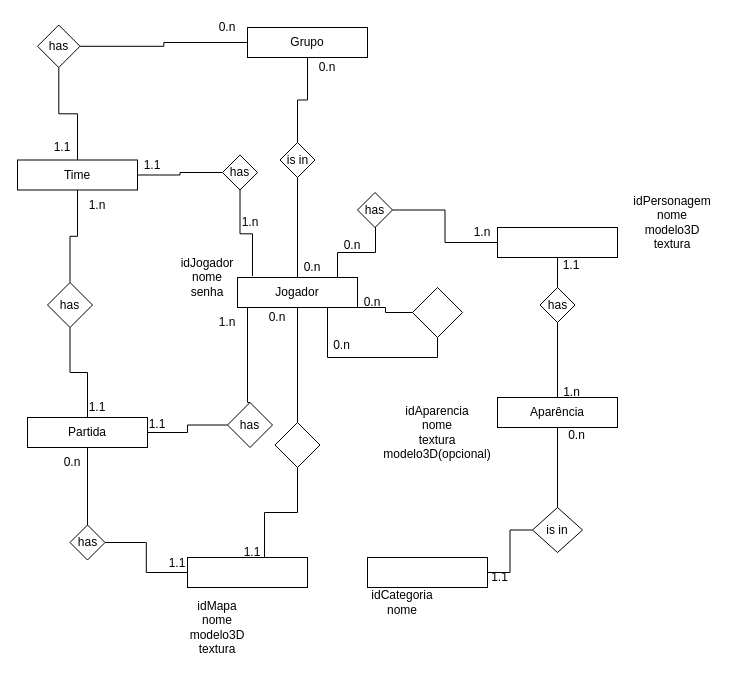
The diagram is 745 pixels wide and 684 high, and some of its shapes have lost their labels. Here are the shapes that lost their labels. From the top down, the centre of each, then its label:
At point 557,242: "Personagem".
At point 437,312: "friend".
At point 297,445: "play".
At point 247,572: "Mapa".
At point 427,572: "Categoria".
